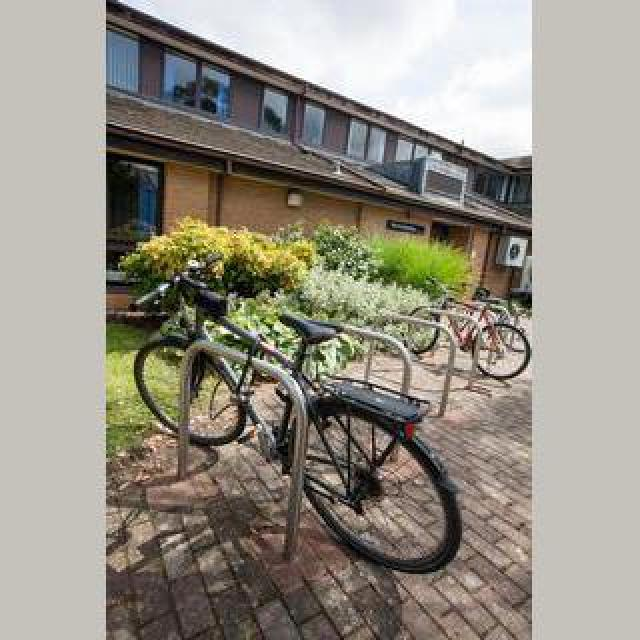Person: (136, 295, 474, 577), (412, 278, 532, 378)
